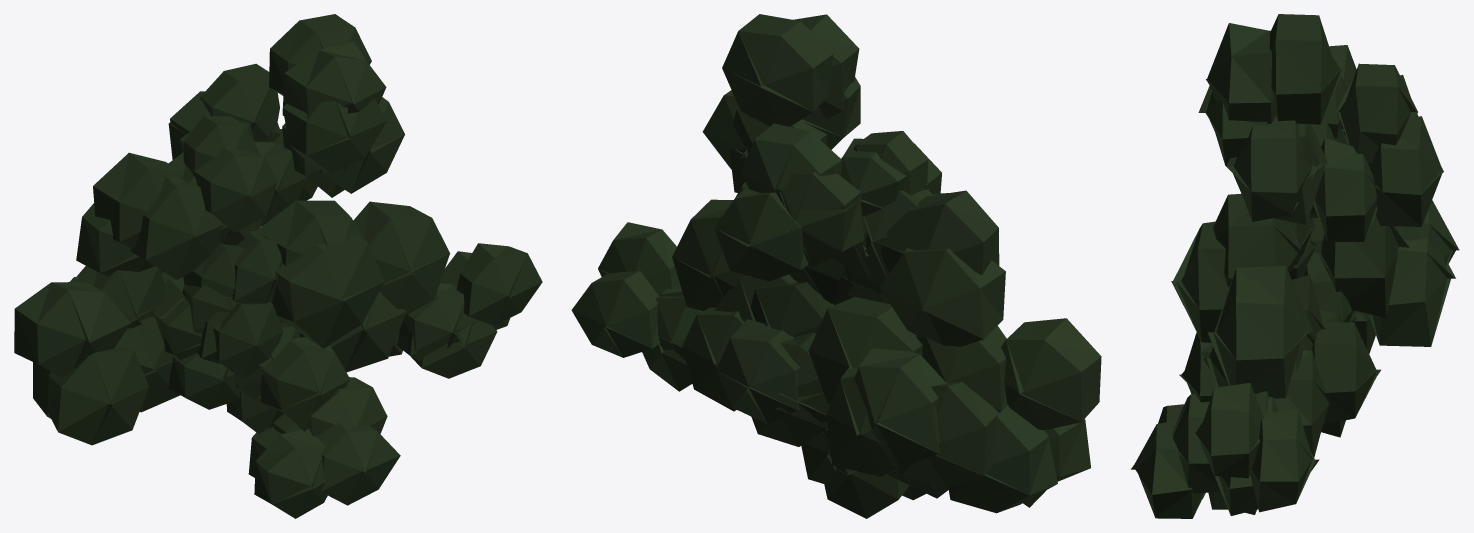
The model's file is tree_m13_far.obj.
3 renders of one model, left to right at view 1: azimuth 30°, elevation 25°; view 2: azimuth 150°, elevation 25°; view 3: azimuth 270°, elevation 25°, orthographic. The views are drawn at different scales.
Bounding box in the file's own units: 1.93 × 1.71 × 0.9809.
1 material, 1 textured.
